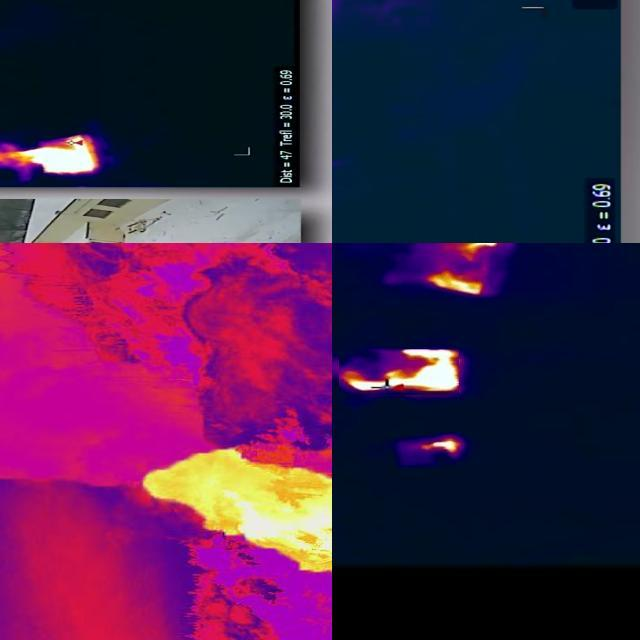fire: (143, 444, 333, 574), (340, 349, 460, 395), (1, 134, 103, 174), (426, 272, 486, 297), (418, 436, 462, 454), (456, 244, 502, 252)
